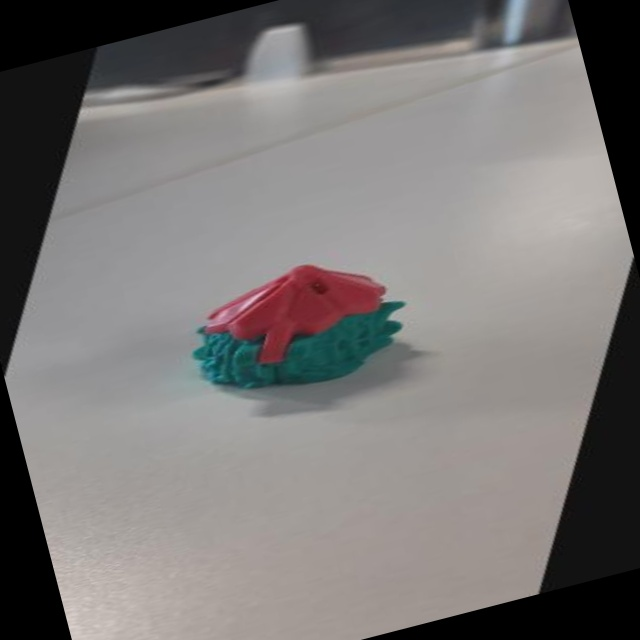House: (139, 212, 470, 432)
